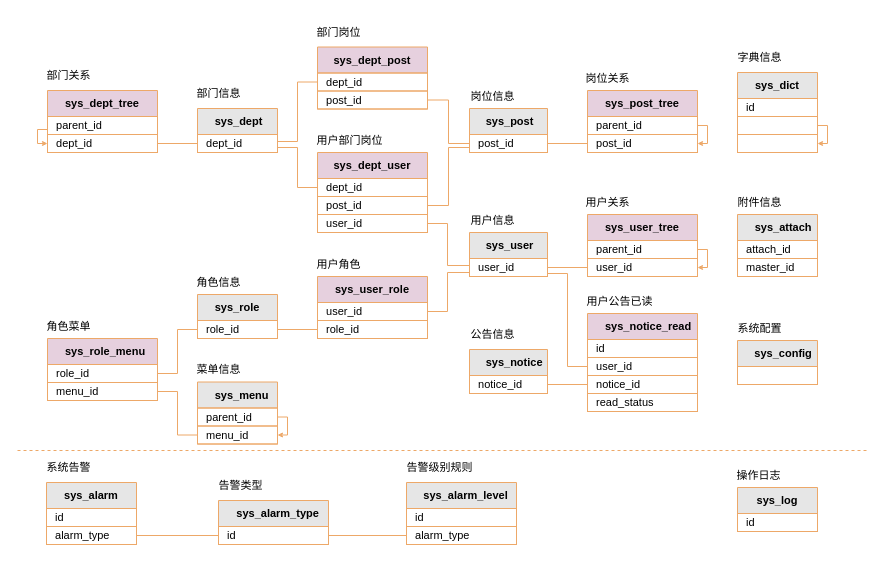
The diagram is 886 pixels wide and 562 high, and some of its shapes have lost their labels. The shapes that lost their labels are listed below. From the top down, each one's centre as x and y in pixels, then its label:
point (777, 125): parent_code
point (777, 143): dict_code
point (777, 375): config_id
